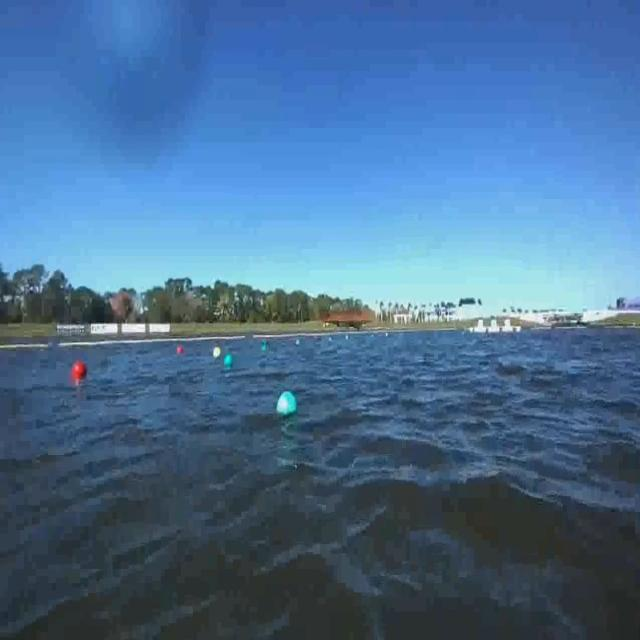green-buoy: (278, 392, 298, 419), (224, 354, 233, 368)
red-buoy: (72, 360, 88, 378), (177, 346, 184, 355)
yellow-buoy: (214, 347, 222, 358)
